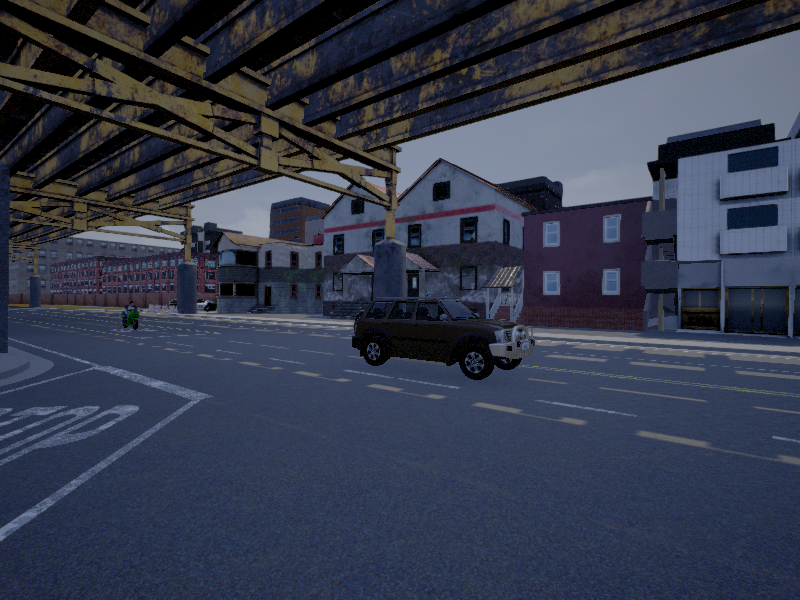benign: (353, 300, 536, 379)
